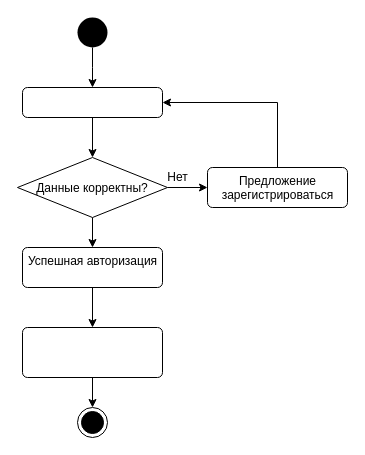
This 365x455 diagram has some shape labels left out. Here are the shapes that lost their labels. From the top down, the centre of each, then its label:
At [92,102]: "Ввод логина и пароля".
At [92,352]: "Отображение персональной страницы".
